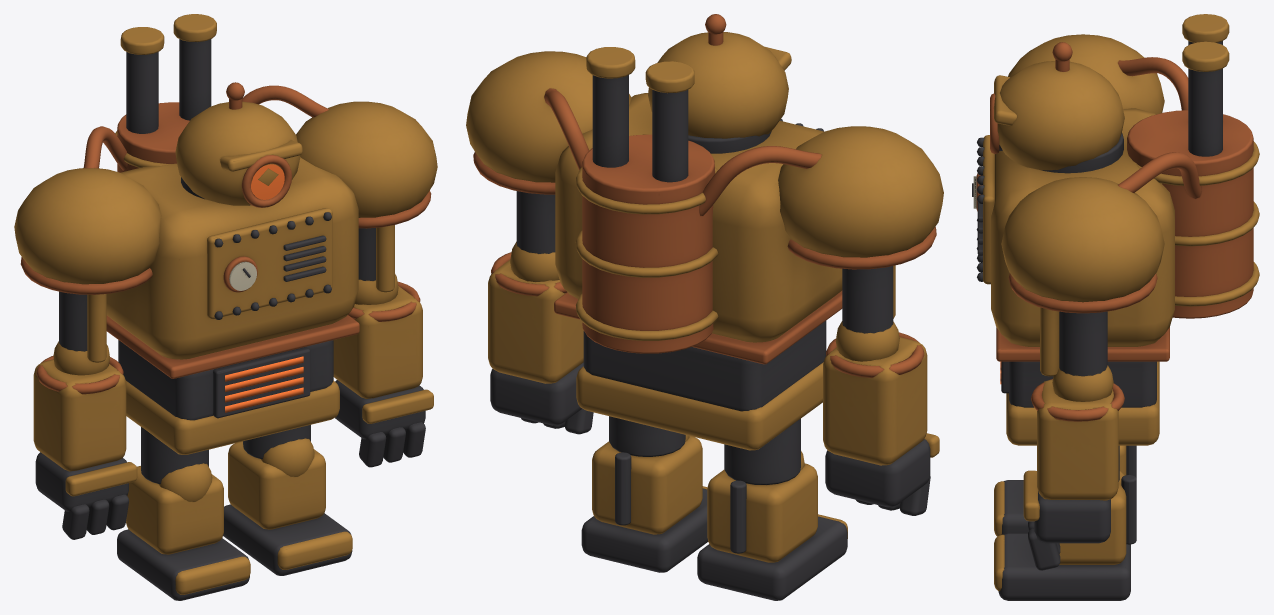
Rendered from sentinel_v9.glb.
3 views of the same model, side by side, from view 1: azimuth 30°, elevation 25°; view 2: azimuth 150°, elevation 25°; view 3: azimuth 270°, elevation 25° (orthographic). The views are drawn at different scales.
Parts seen in each view (by area): view 1: Brass, Iron, Copper, Eye, Ivory; view 2: Brass, Iron, Copper; view 3: Brass, Iron, Copper.
Boxes of the visible parts, bbox=[...] form: Brass: bbox=[14, 14, 437, 594]; Iron: bbox=[35, 39, 425, 600]; Copper: bbox=[20, 82, 431, 394]; Eye: bbox=[225, 164, 303, 412]; Ivory: bbox=[229, 261, 256, 290]; Brass: bbox=[466, 32, 943, 562]; Iron: bbox=[490, 75, 930, 600]; Copper: bbox=[473, 14, 936, 377]; Brass: bbox=[983, 14, 1259, 591]; Iron: bbox=[972, 41, 1222, 600]; Copper: bbox=[976, 42, 1253, 421].
Size of the model in its own units: 4.9 by 5.62 by 2.82.
Materials: 5 (5 with a texture image).
